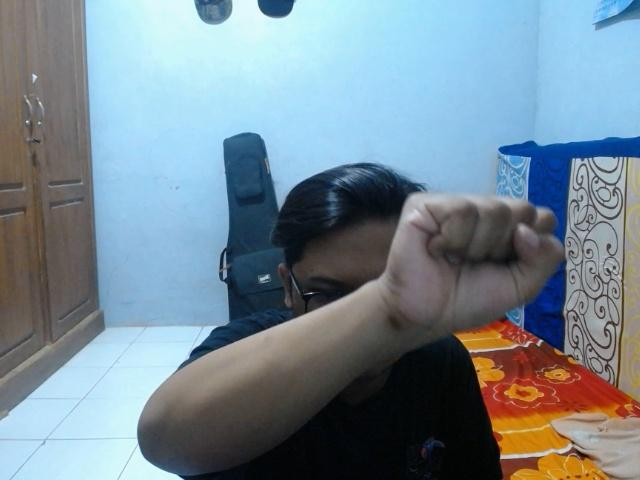Grab: (380, 186, 572, 343)
